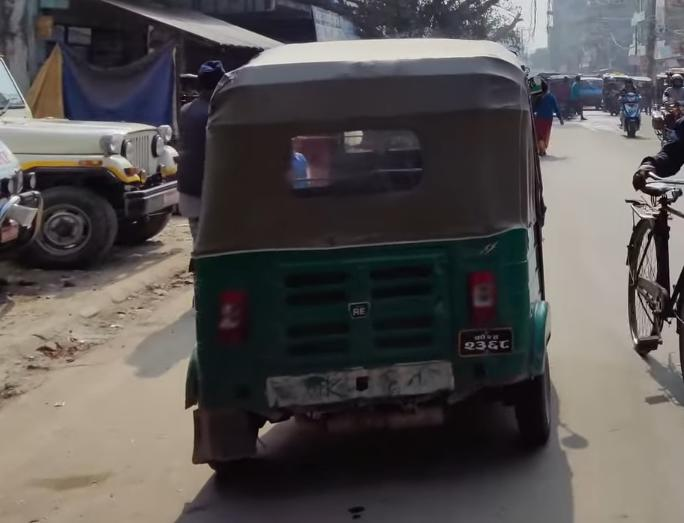auto_rickshaw: (180, 36, 569, 490)
